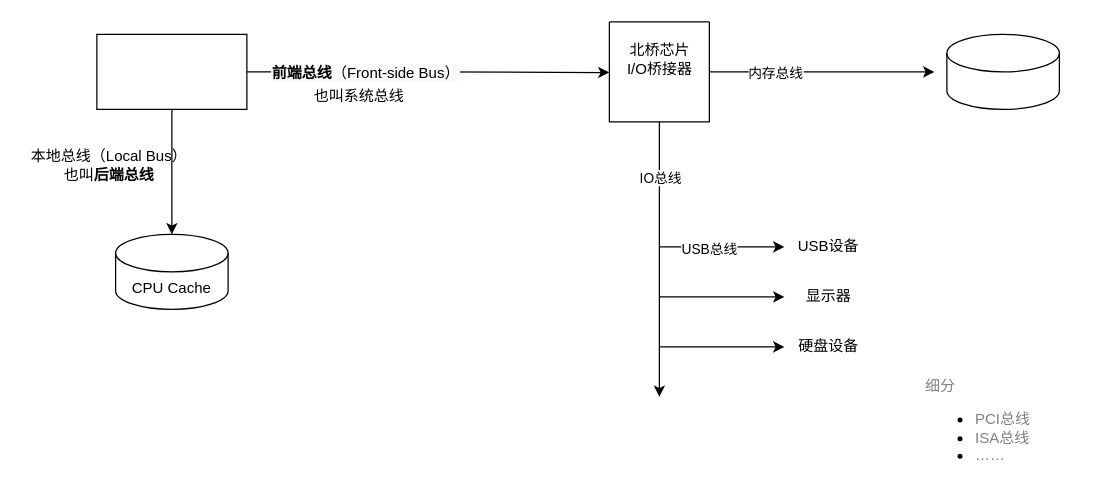
Image size: 1093x501. Some labels were removed from this diagram. Each missing label, with the centre of its shape:
CPU: the point at 171,71
Memory: the point at 1002,71
